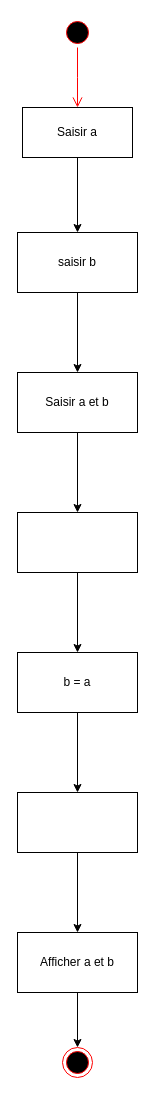
Some shapes in this 155 by 1095 pixel diagram are drawn without their labels. The shapes that lost their labels are listed below. From the top down, each one's centre as x and y in pixels, then its label:
(x=77, y=542): c=b
(x=77, y=822): a = c
